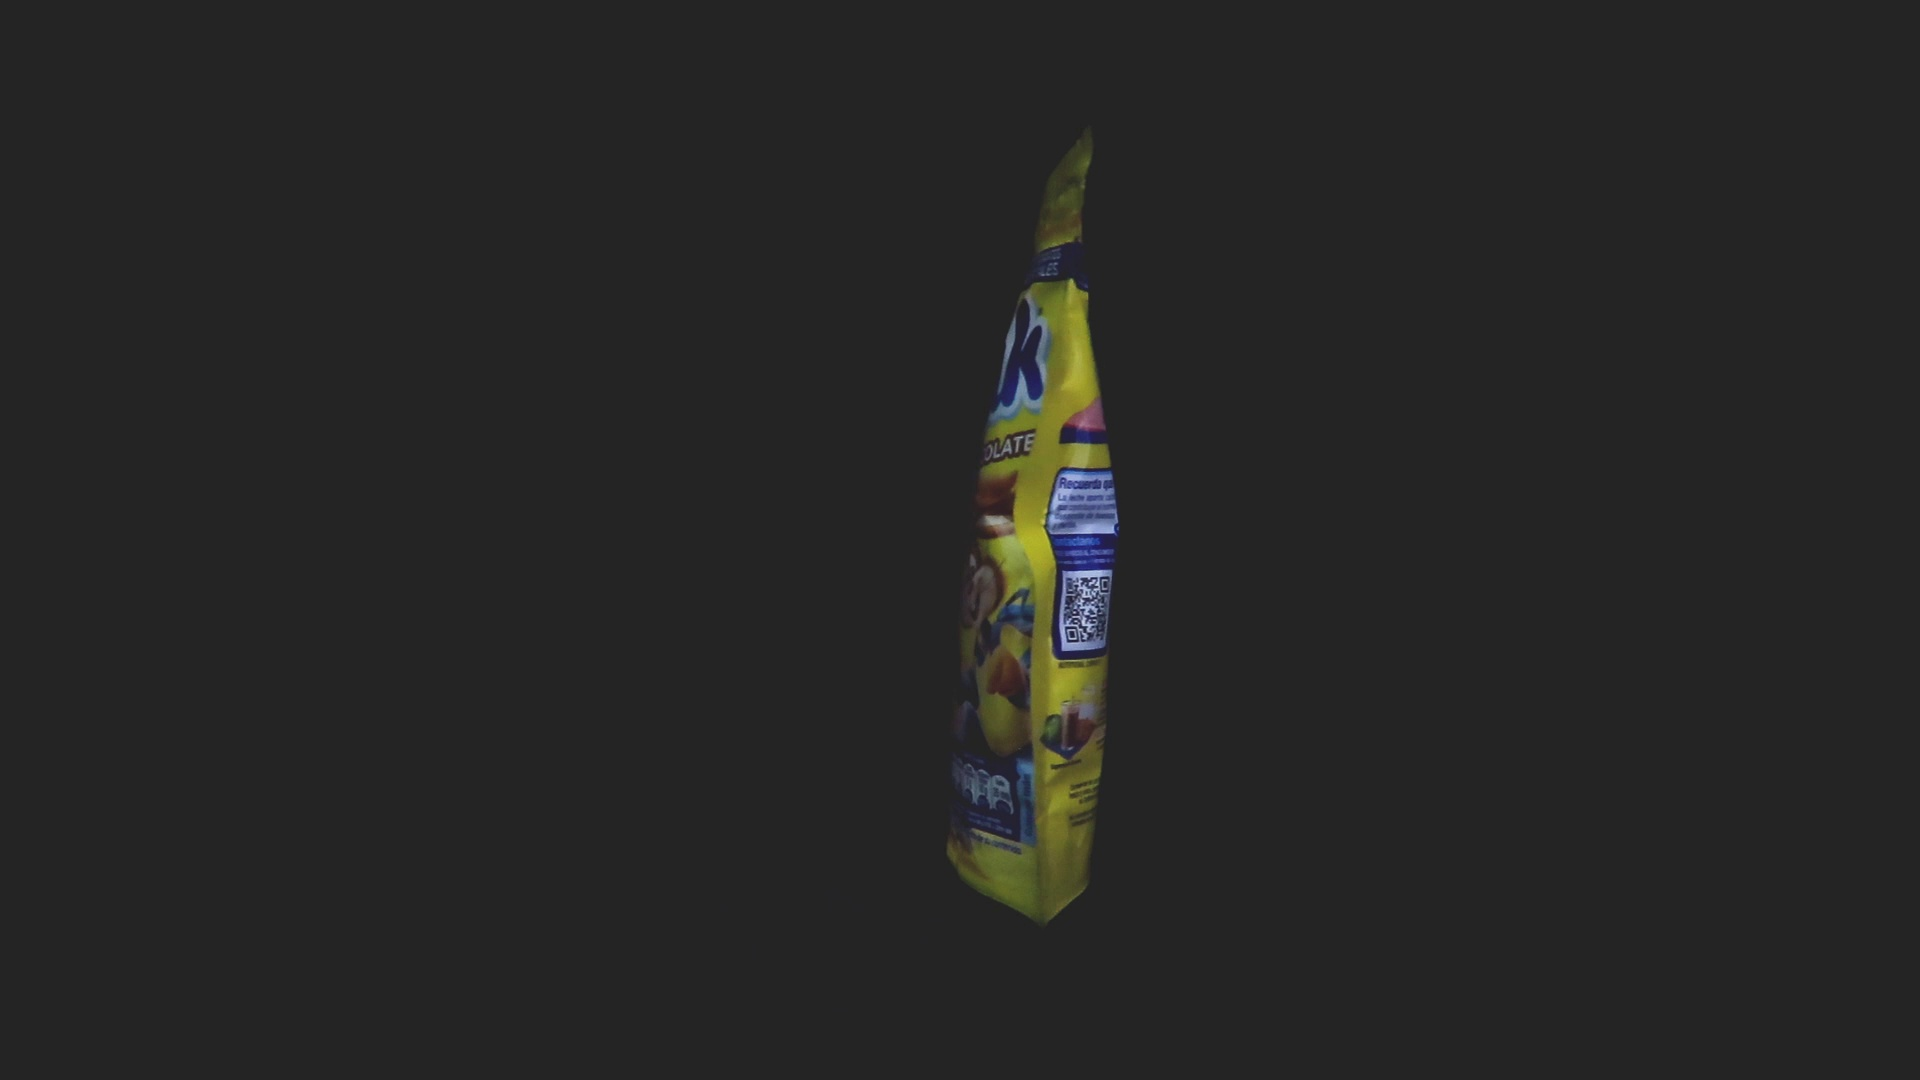COL0170303DYP20000: (955, 386, 1125, 935)
